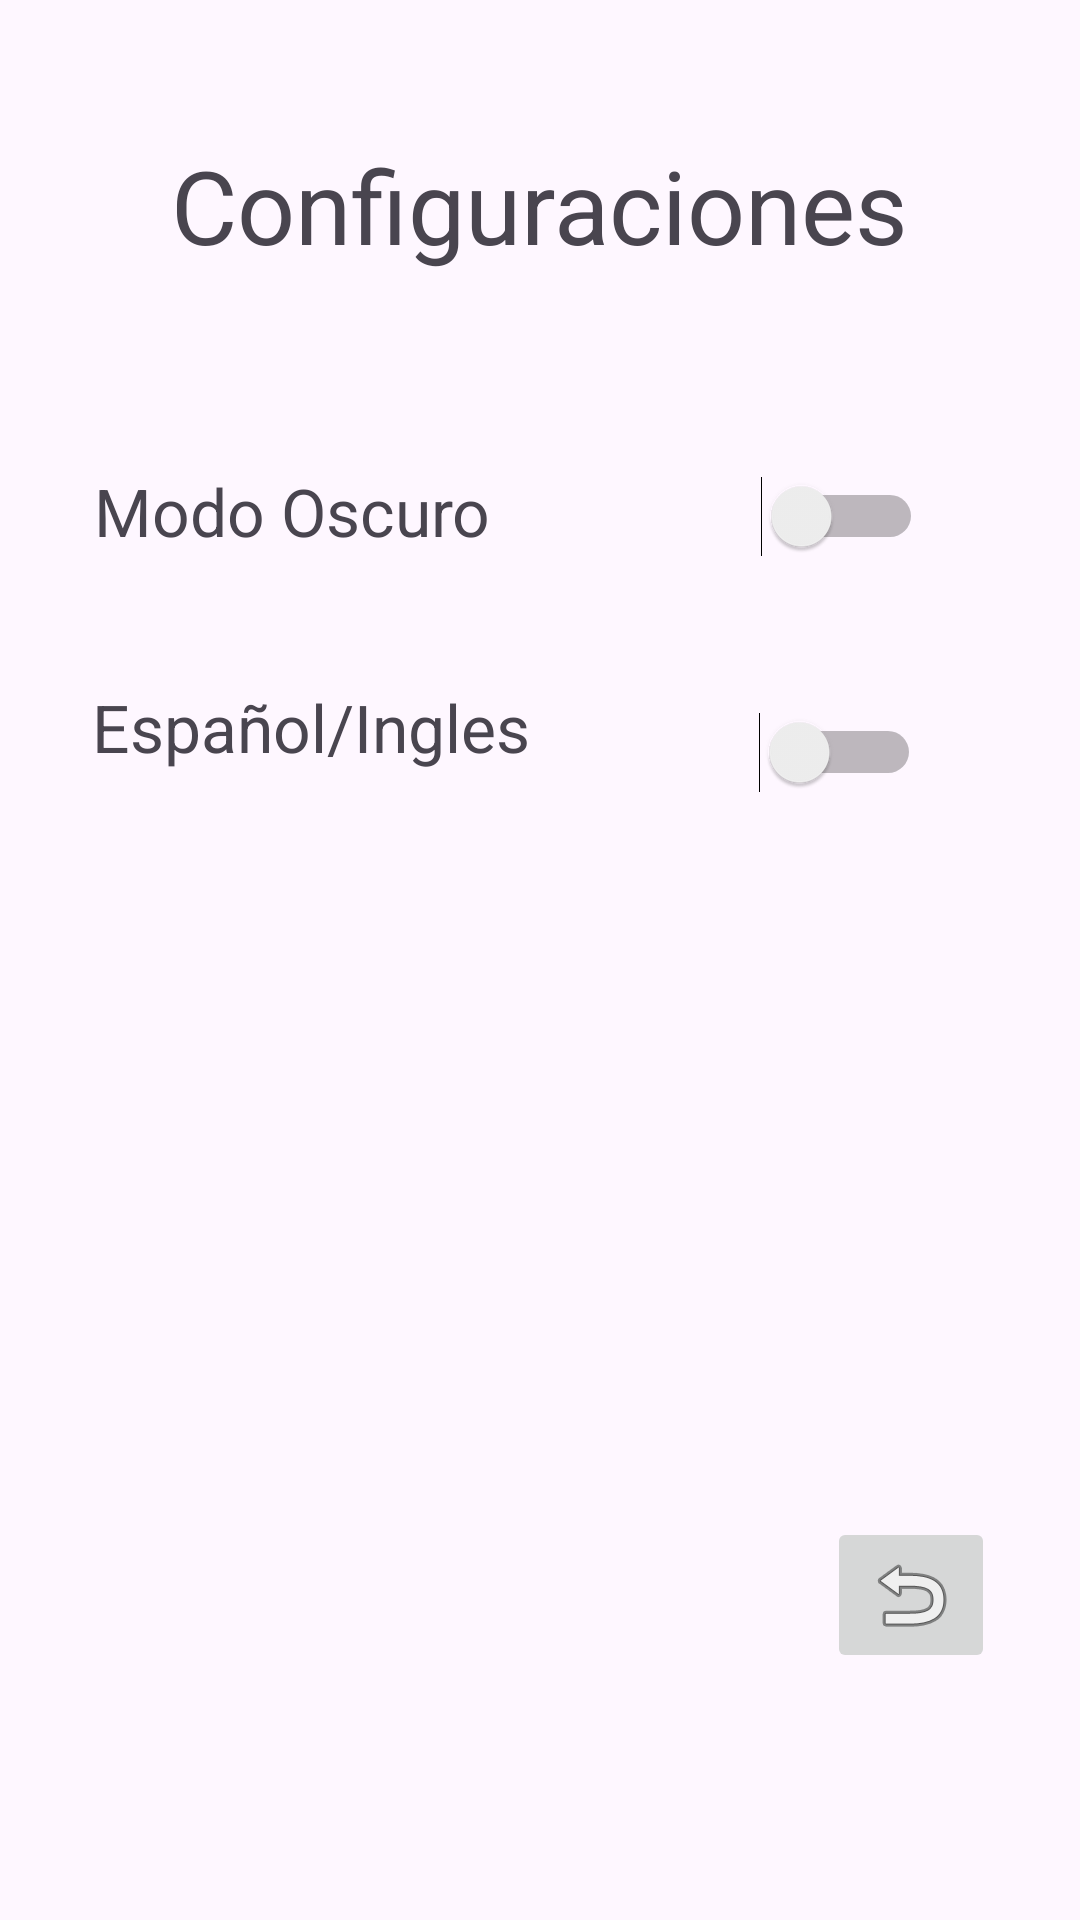

Icons on this 1080w x 1920h Android screen, each with its box as (x1, y1, x2, y2):
revert: (839, 1535, 983, 1655)
